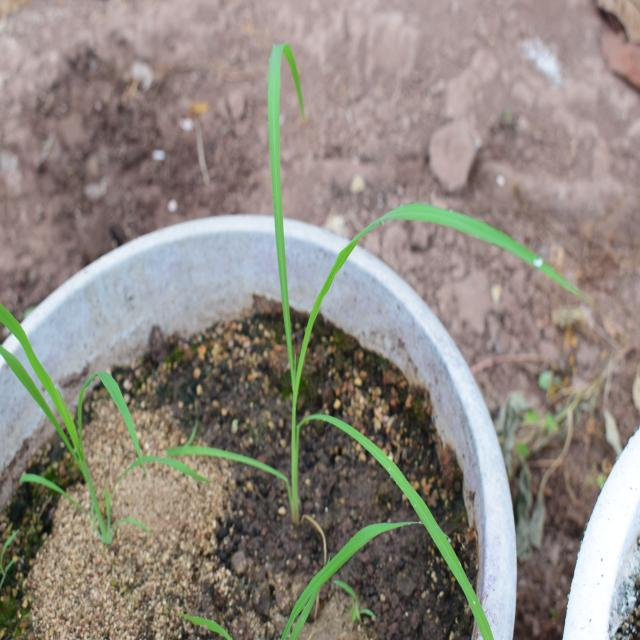barnyard_grass: (209, 32, 523, 578)
